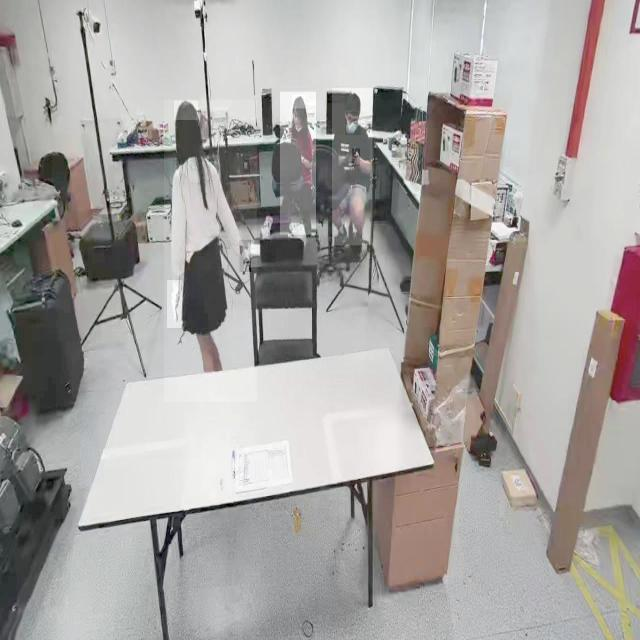face_mask: (346, 112, 360, 135)
face_nomask: (293, 111, 301, 129)
hand_glove: (167, 280, 183, 329), (240, 240, 252, 273)
hand_noglove: (352, 149, 360, 167)
head_nohelmet: (174, 100, 198, 121), (344, 92, 360, 111), (292, 94, 306, 110)
person: (164, 100, 258, 402), (332, 88, 373, 246), (280, 92, 316, 236)
